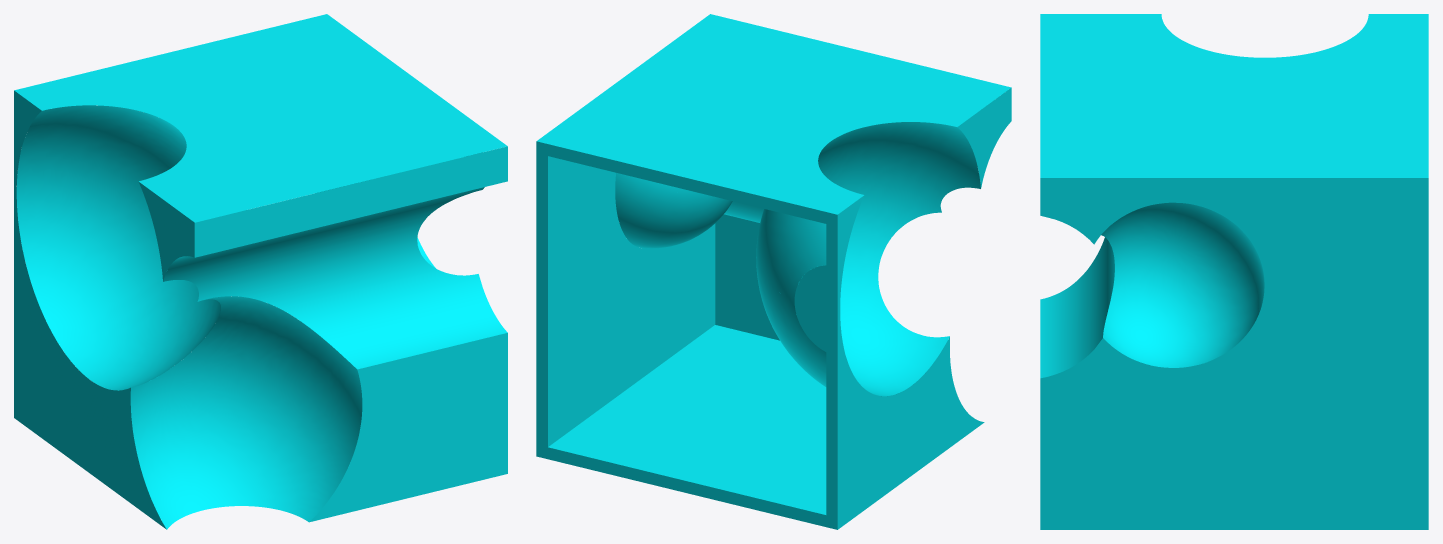
3 views of the same model, side by side, from view 1: azimuth 30°, elevation 25°; view 2: azimuth 150°, elevation 25°; view 3: azimuth 270°, elevation 25° (orthographic). The views are drawn at different scales.
Parts seen in each view (by area): view 1: 70_vars_w-txt; view 2: 70_vars_w-txt; view 3: 70_vars_w-txt.
Part boxes in pixels (bbox=[...]): 70_vars_w-txt: bbox=[14, 14, 507, 529]; 70_vars_w-txt: bbox=[536, 14, 1011, 529]; 70_vars_w-txt: bbox=[1040, 14, 1428, 529].
Bounding box in the file's own units: 0.042 × 0.042 × 0.042.
